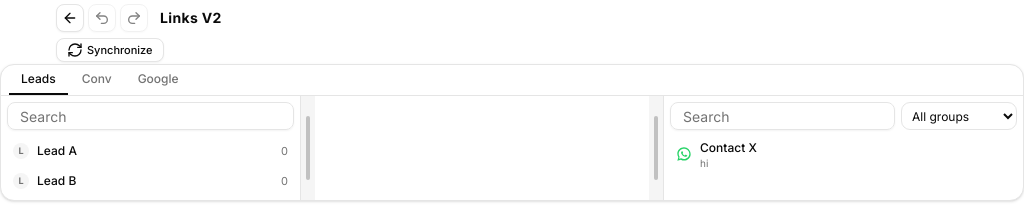
Test: Links V2 — Links(left)/Conv(right) center panel, 4 selection states › lead selected only: Links shows (open), Conv absent
The width and height of the screenshot is (1024, 219).
Expected: the text "Lead A" is shown, [37,143,77,158]
Click the element showing "L Lead A 0": (57, 150) [13,143,288,159]
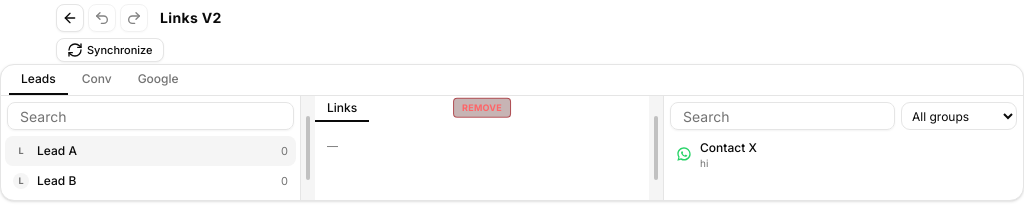
Result: the button "Links" is shown at [315,96,369,122]
